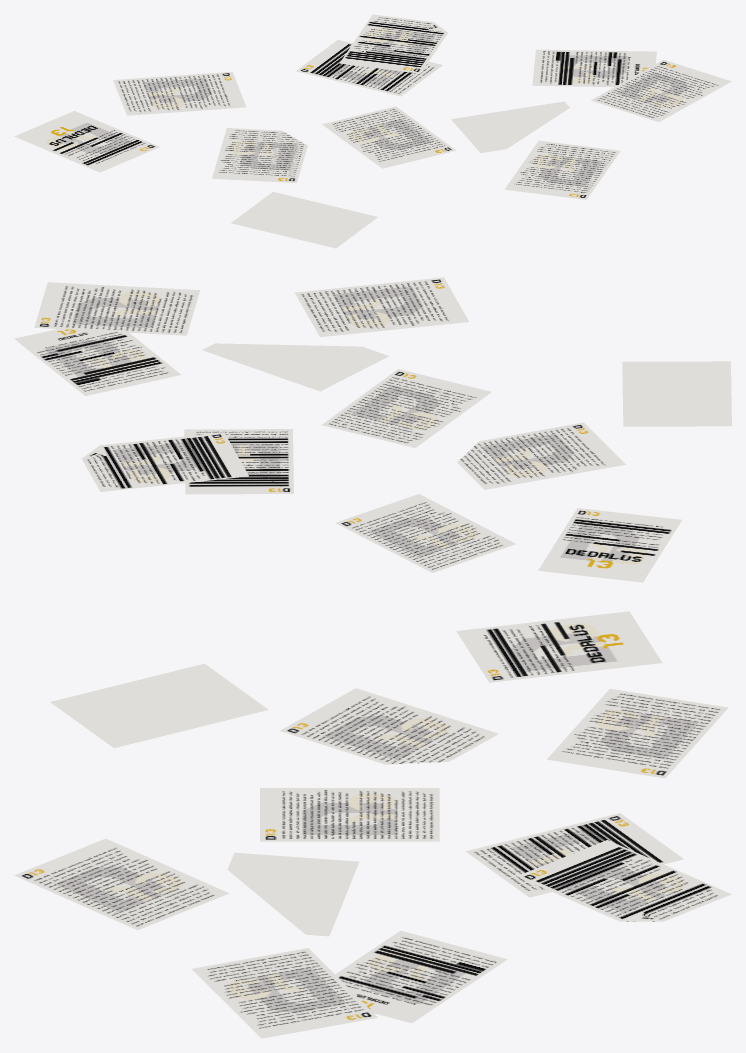
The model's file is Lots of papers 2.fbx.
3 renders of one model, top to bottom at view 1: azimuth 30°, elevation 25°; view 2: azimuth 150°, elevation 25°; view 3: azimuth 270°, elevation 25°, orthographic. The views are drawn at different scales.
Parts seen in each view (by area): view 1: lots of papers 2; view 2: lots of papers 2; view 3: lots of papers 2.
Boxes of the visible parts, x1,y1,x2,y2 form: lots of papers 2: (14, 14, 731, 248); lots of papers 2: (14, 277, 731, 582); lots of papers 2: (14, 611, 731, 1038).
Bounding box in the file's own units: 168 × 0.4125 × 119.
